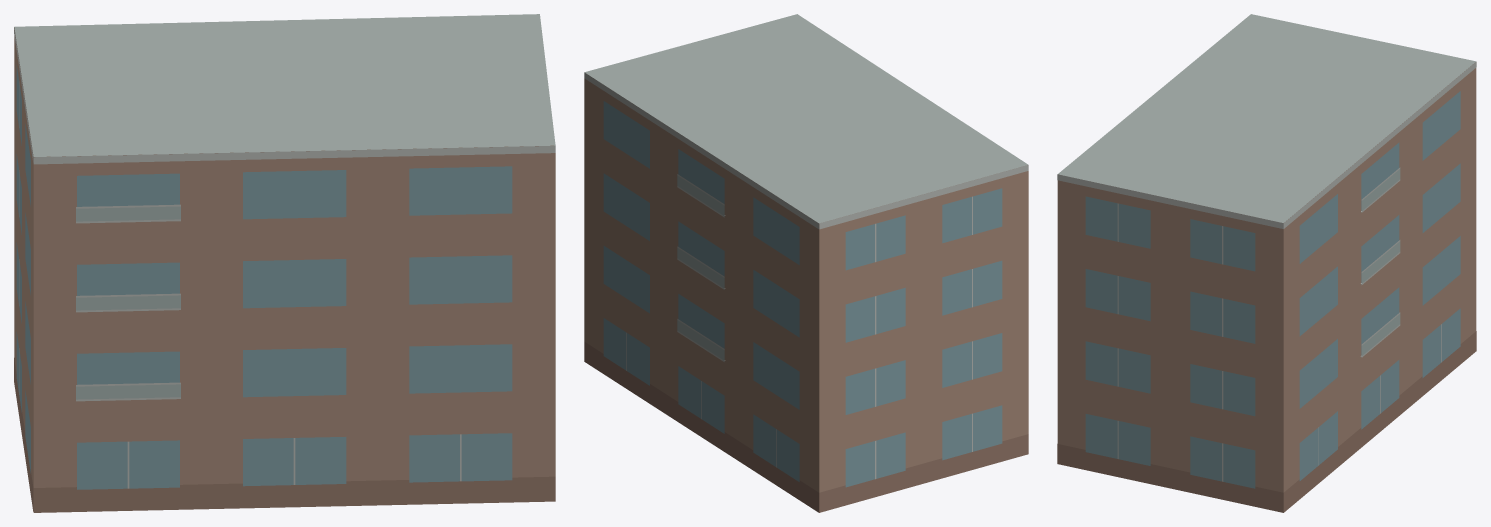
File: survey-upis-32883528.glb
3 views of the same model, side by side, from view 1: azimuth 30°, elevation 25°; view 2: azimuth 150°, elevation 25°; view 3: azimuth 270°, elevation 25° (orthographic). The views are drawn at different scales.
Parts seen in each view (by area): view 1: survey-upis-32883528.tmp; view 2: survey-upis-32883528.tmp; view 3: survey-upis-32883528.tmp.
Boxes of the visible parts, x1,y1,x2,y2 form: survey-upis-32883528.tmp: (14, 14, 555, 512); survey-upis-32883528.tmp: (584, 14, 1028, 512); survey-upis-32883528.tmp: (1057, 14, 1476, 512).
Size of the model in its own units: 18.2 by 11.75 by 15.41.
